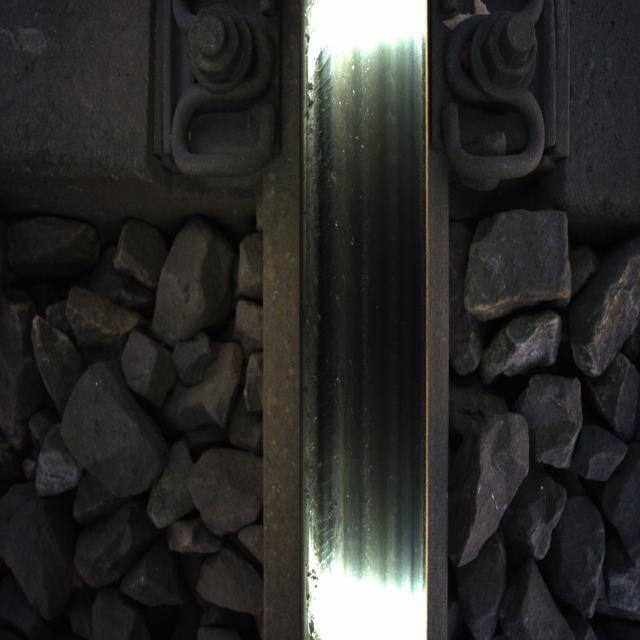normal: (305, 35, 417, 544)
